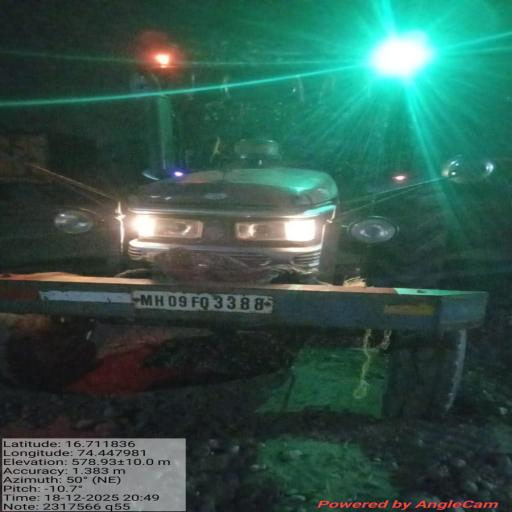number_plate: (132, 291, 273, 313)
